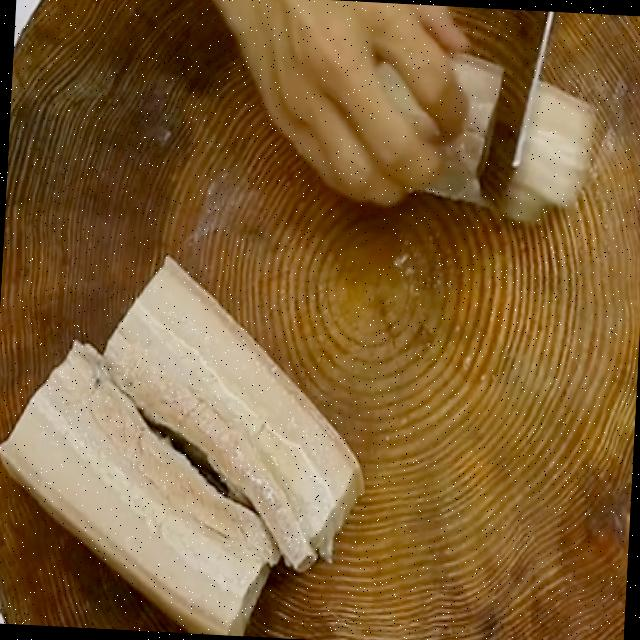meat: (2, 343, 281, 636), (102, 259, 362, 558)
